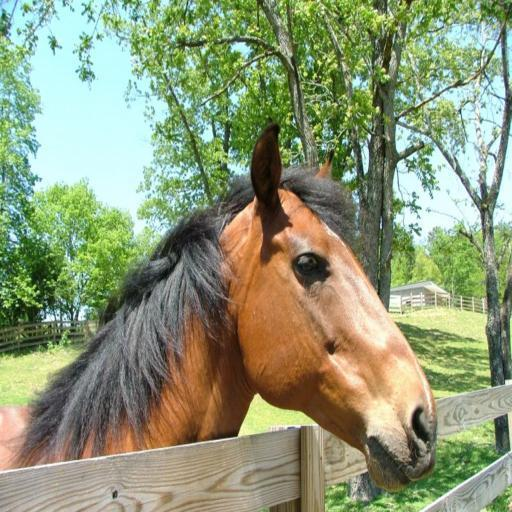horse: (0, 123, 440, 475)
